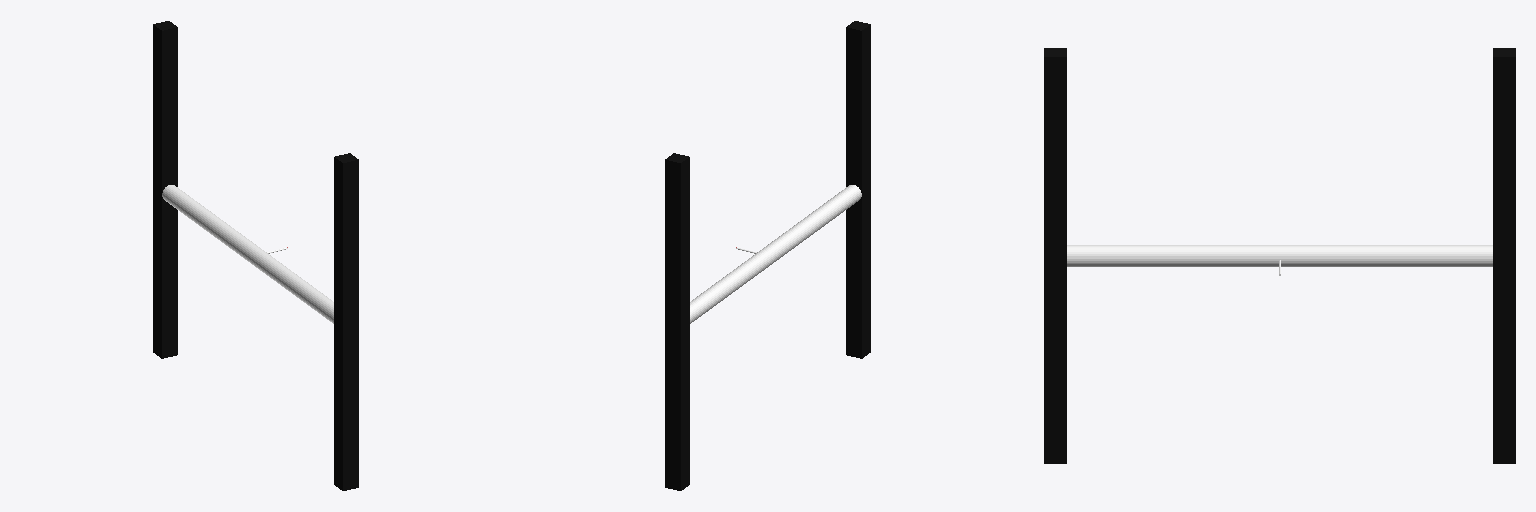
The robot description file, URDF, robot "valve":
<?xml version="1.0"?>
<robot name="valve">
  <link name="valve_base_left_support">
    <visual>
      <geometry>
        <box size="0.1 0.1 2.0"/>
      </geometry>
      <origin rpy="0 0 0" xyz="0 0 0"/>
      <material name="blueish">
	<color rgba="0.1 0.1 0.1 0.5"/>
      </material>
    </visual>
    <collision>
      <geometry>
        <box size="0.1 0.1 2.0"/>
      </geometry>
    </collision>
    <inertial>
      <origin xyz="0 0 0"/>
      <mass value="10"/>
      <inertia ixx="1.0" ixy="0.0" ixz="0.0" iyy="1.0" iyz="0.0" izz="1.0"/>
    </inertial>
  </link>

  <link name="valve_base_right_support">
    <visual>
      <geometry>
        <box size="0.1 0.1 2.0"/>
      </geometry>
      <origin rpy="0 0 0" xyz="0 0 0"/>
      <material name="blueish">
	<color rgba="0.1 0.1 0.1 0.5"/>
      </material>
    </visual>
    <collision>
      <geometry>
        <box size="0.1 0.1 2.0"/>
      </geometry>
    </collision>
    <inertial>
      <origin xyz="0 0 0"/>
      <mass value="10"/>
      <inertia ixx="1.0" ixy="0.0" ixz="0.0" iyy="1.0" iyz="0.0" izz="1.0"/>
    </inertial>
  </link>

  <link name="valve_base_middle_bridge">
    <visual>
      <geometry>
	<cylinder length="2.0" radius="0.05"/>
      </geometry>
      <origin rpy="1.57075 0 0" xyz="0 0 0"/>
      <material name="whiteish">
	<color rgba="1.0 1.0 1.0 1.0"/>
      </material>
    </visual>
    <collision>
      <geometry>
	<cylinder length="2.0" radius="0.05"/>
      </geometry>
      <origin rpy="1.57075 0 0" xyz="0 0 0"/>
    </collision>
    <inertial>
      <origin xyz="0 0 0"/>
      <mass value="0.1"/>
      <inertia ixx="1.0" ixy="0.0" ixz="0.0" iyy="1.0" iyz="0.0" izz="1.0"/>
    </inertial>
  </link>

  <link name="handle">
    <visual>
      <geometry>
	<mesh filename="package://wpi_drc_sim/meshes/valve_models/red-valve-3-spokes-handle.dae" scale="0.05 0.05 0.05"/>
      </geometry>
    </visual>
    <collision>
      <geometry>
        <mesh filename="package://wpi_drc_sim/meshes/valve_models/red-valve-3-spokes-handle.stl" scale="0.05 0.05 0.05"/>
      </geometry>
    </collision>
    <inertial>
      <origin xyz="0 0 0"/>
      <mass value="0.1"/>
      <inertia ixx="1.0" ixy="0.0" ixz="0.0" iyy="1.0" iyz="0.0" izz="1.0"/>
    </inertial>
  </link>
  
  <link name="rod">
    <visual>
      <geometry>
	<cylinder length="0.2" radius="0.005"/>
      </geometry>
      <origin rpy="0 1.57075 0" xyz="0.1 0 0"/>
      <material name="whiteish">
	<color rgba="1.0 1.0 1.0 1.0"/>
      </material>
    </visual>
    <collision>
      <geometry>
	<cylinder length="0.1" radius="0.005"/>
      </geometry>
      <origin rpy="0 1.57075 0" xyz="0.1 0 0"/>
    </collision>
    <inertial>
      <origin xyz="0 0 0"/>
      <mass value="0.1"/>
      <inertia ixx="1.0" ixy="0.0" ixz="0.0" iyy="1.0" iyz="0.0" izz="1.0"/>
    </inertial>
  </link>

  <joint name="left_support" type="fixed">
    <parent link="valve_base_left_support"/>
    <child link="valve_base_middle_bridge"/>
    <origin xyz="0 1 0"/>
  </joint>
  
  <joint name="right_support" type="fixed">
    <parent link="valve_base_middle_bridge"/>
    <child link="valve_base_right_support"/>
    <origin xyz="0 1 0"/>
  </joint>

  <joint name="body_to_rod" type="fixed">
    <parent link="valve_base_middle_bridge"/>
    <child link="rod"/>
    <origin xyz="0 0 0" rpy="0 0 0" />
  </joint>

  <joint name="rod_to_handle" type="continuous">
    <parent link="rod"/>
    <child link="handle"/>
    <axis xyz="1 0 0"/>
    <origin xyz="0.2 0 0"/>
  </joint>

  <gazebo reference="valve_base_middle_bridge">
    <material>Gazebo/White</material>
  </gazebo>
</robot>

--- Render facts (derived) ---
3 views of the same robot in one strip: view 1: azimuth 30°, elevation 25°; view 2: azimuth 150°, elevation 25°; view 3: azimuth 270°, elevation 25° (orthographic).
Robot: valve — 5 links, 4 joints (1 continuous, 3 fixed); root link valve_base_left_support; default pose: every joint at zero.
Links seen in each view (by area): view 1: valve_base_left_support, valve_base_right_support, valve_base_middle_bridge; view 2: valve_base_right_support, valve_base_left_support, valve_base_middle_bridge; view 3: valve_base_left_support, valve_base_right_support, valve_base_middle_bridge.
Link boxes in pixels (box(x1,y1,x2,y2)): valve_base_left_support: box(334, 153, 358, 490); valve_base_right_support: box(153, 21, 177, 358); valve_base_middle_bridge: box(162, 185, 333, 323); valve_base_right_support: box(665, 153, 689, 490); valve_base_left_support: box(846, 21, 870, 358); valve_base_middle_bridge: box(690, 185, 861, 323); valve_base_left_support: box(1044, 48, 1066, 463); valve_base_right_support: box(1493, 48, 1515, 463); valve_base_middle_bridge: box(1067, 245, 1492, 266).
Bounding box of the posed robot: 0.2516 × 2.1 × 2 m (x, y, z).
1 mesh visuals loaded from 1 distinct referenced files (1 Collada DAE).